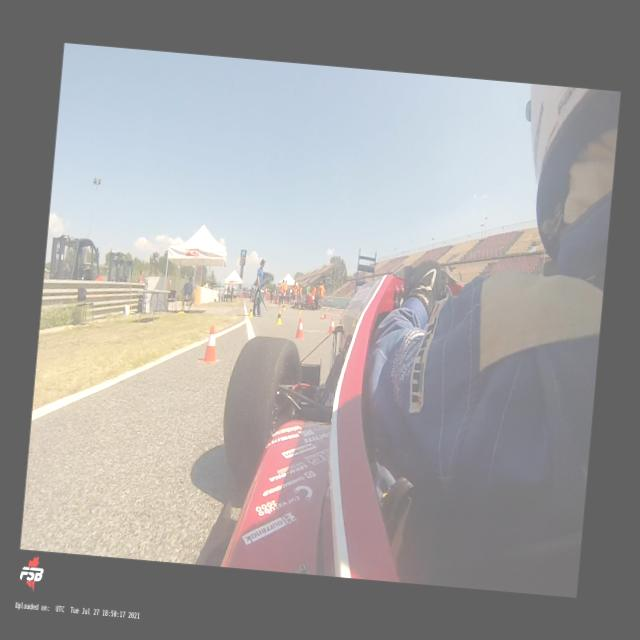orange_cone: (200, 326, 220, 362), (293, 317, 305, 339), (328, 317, 334, 333), (320, 312, 326, 318)
yellow_cone: (275, 310, 283, 324), (248, 306, 253, 316), (298, 306, 302, 314), (282, 304, 286, 310), (338, 306, 341, 312)
